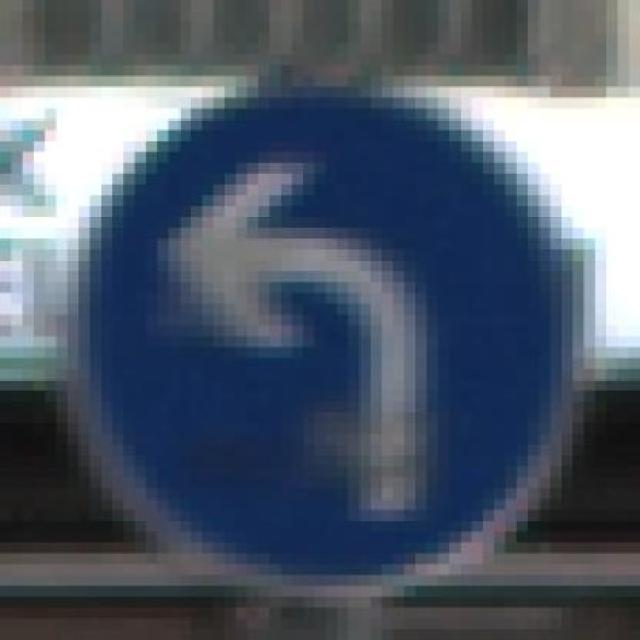Turn left ahead: (67, 69, 595, 612)
